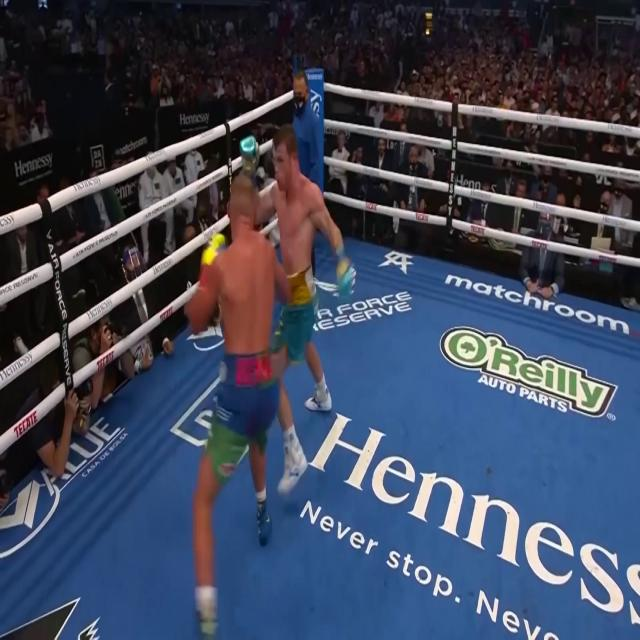boxer_1: (219, 173, 277, 384)
boxer_2: (272, 123, 316, 309)
gloves_1: (200, 232, 225, 266)
gloves_2: (336, 244, 356, 300), (239, 134, 259, 182)
